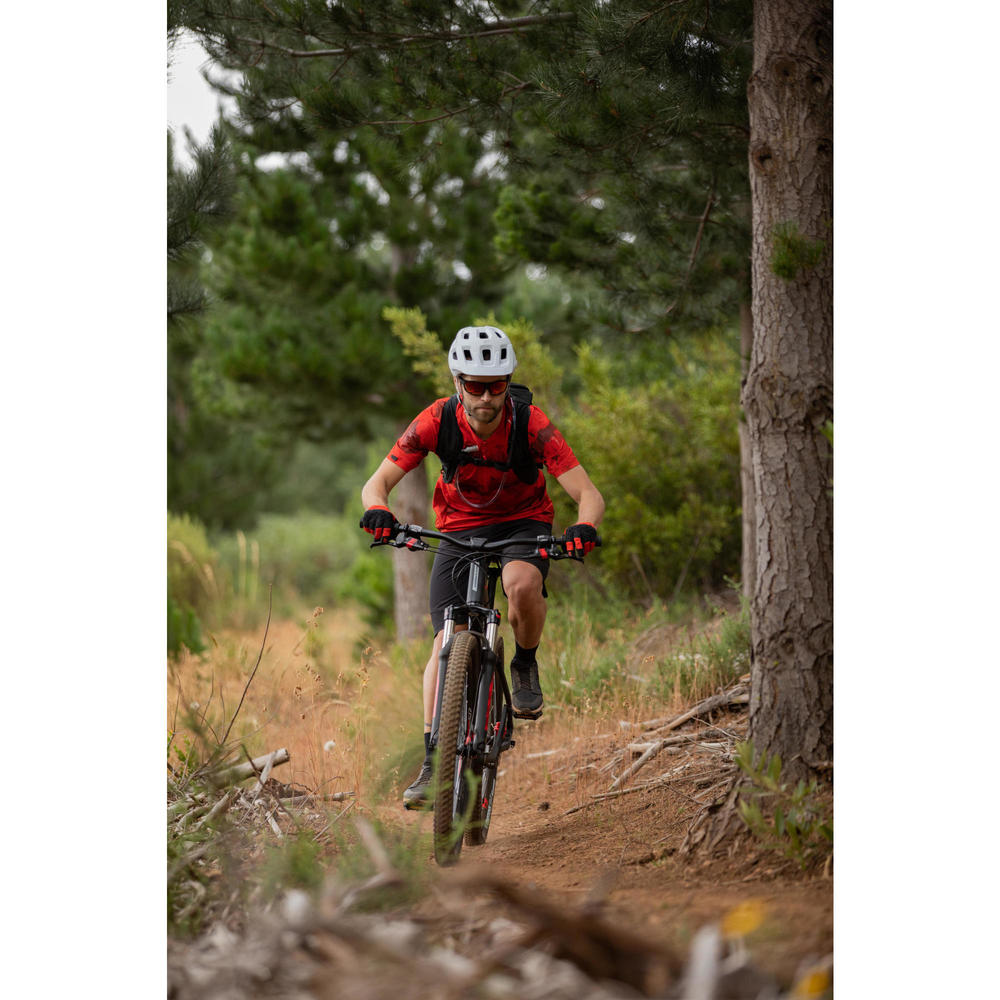MountainBike: (344, 506, 605, 865)
